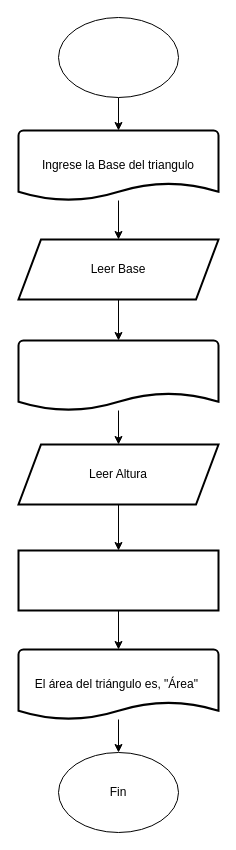
The diagram is 236 pixels wide and 850 high, and some of its shapes have lost their labels. The box of each missing label's shape, as (x1, y1, x2, y2) in pixels:
Area=(Base*Altura)/2: (17, 549, 219, 611)
Ingrese la altura del triangulo: (17, 339, 219, 411)
Inicio: (58, 16, 178, 98)
